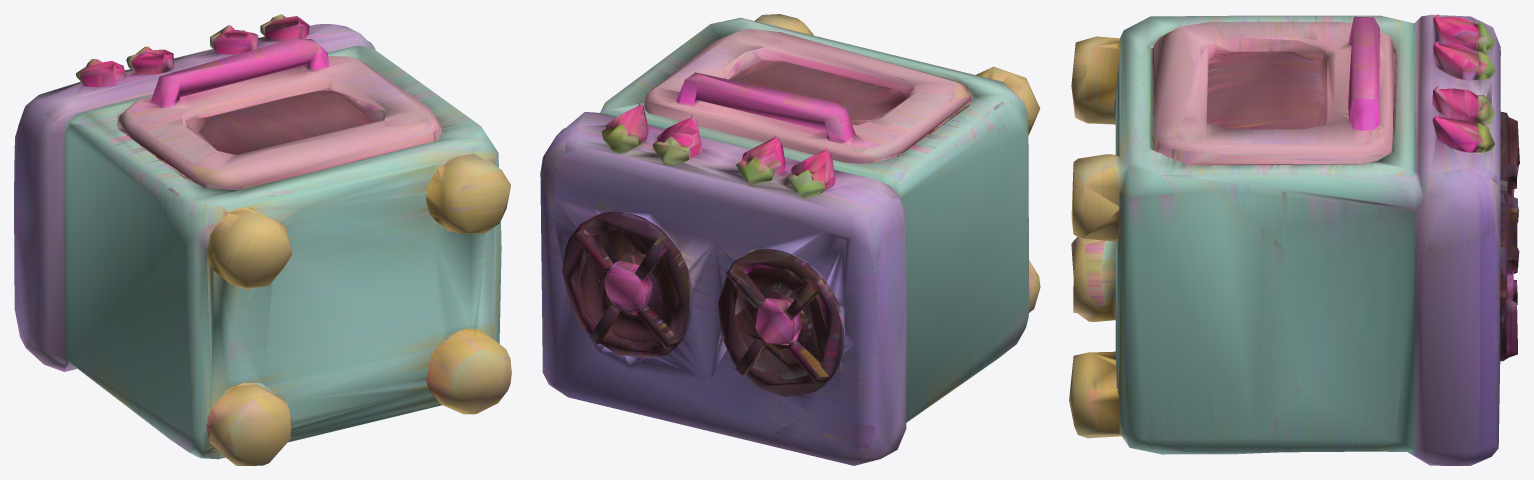
3 renders of one model, left to right at view 1: azimuth 30°, elevation 25°; view 2: azimuth 150°, elevation 25°; view 3: azimuth 270°, elevation 25°, orthographic. The views are drawn at different scales.
Visible parts, largest first — view 1: material; view 2: material; view 3: material.
Boxes of the visible parts, left/top/right/bottom form: material: left=14, top=14, right=511, bottom=465; material: left=540, top=14, right=1040, bottom=465; material: left=1069, top=14, right=1519, bottom=465.
Size of the model in its own units: 0.9647 by 0.8237 by 1.
Materials: 1 (1 with a texture image).
